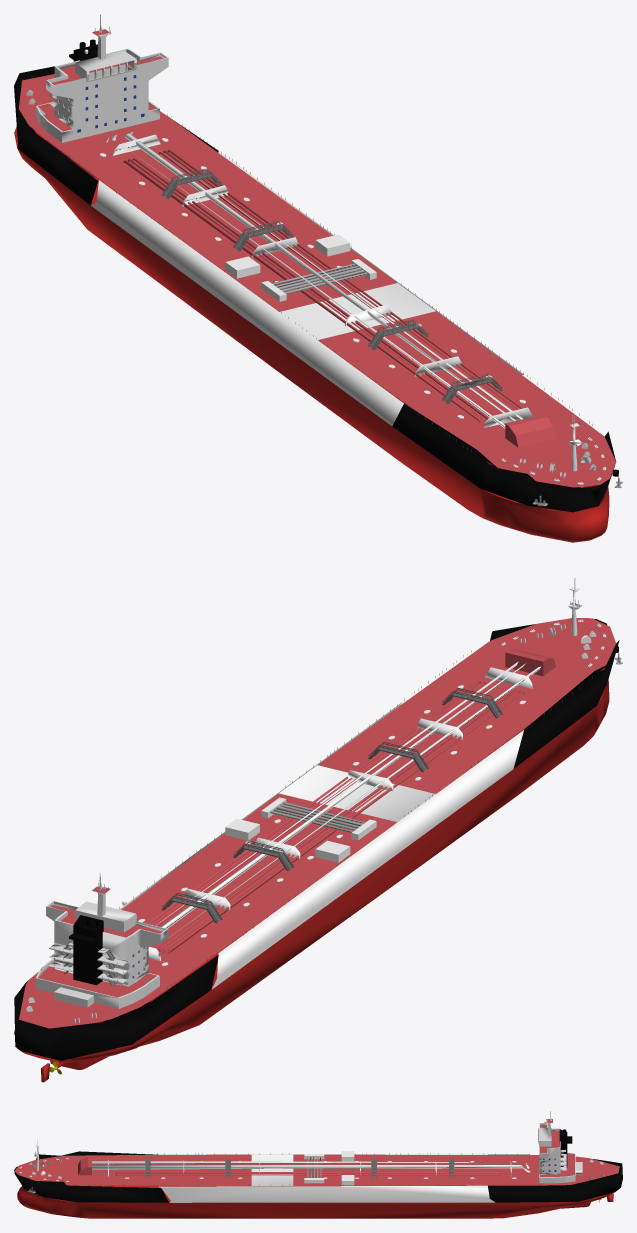
Rendered from tanker.glb.
3 renders of one model, top to bottom at view 1: azimuth 30°, elevation 25°; view 2: azimuth 150°, elevation 25°; view 3: azimuth 270°, elevation 25°, orthographic. The views are drawn at different scales.
Parts seen in each view (by area): view 1: vehicle; view 2: vehicle; view 3: vehicle.
Boxes of the visible parts, box(x1,y1,x2,y2) form: vehicle: box(14, 14, 622, 542); vehicle: box(14, 578, 622, 1082); vehicle: box(14, 1111, 622, 1218).
Size of the model in its own units: 24.82 by 33.45 by 198.
